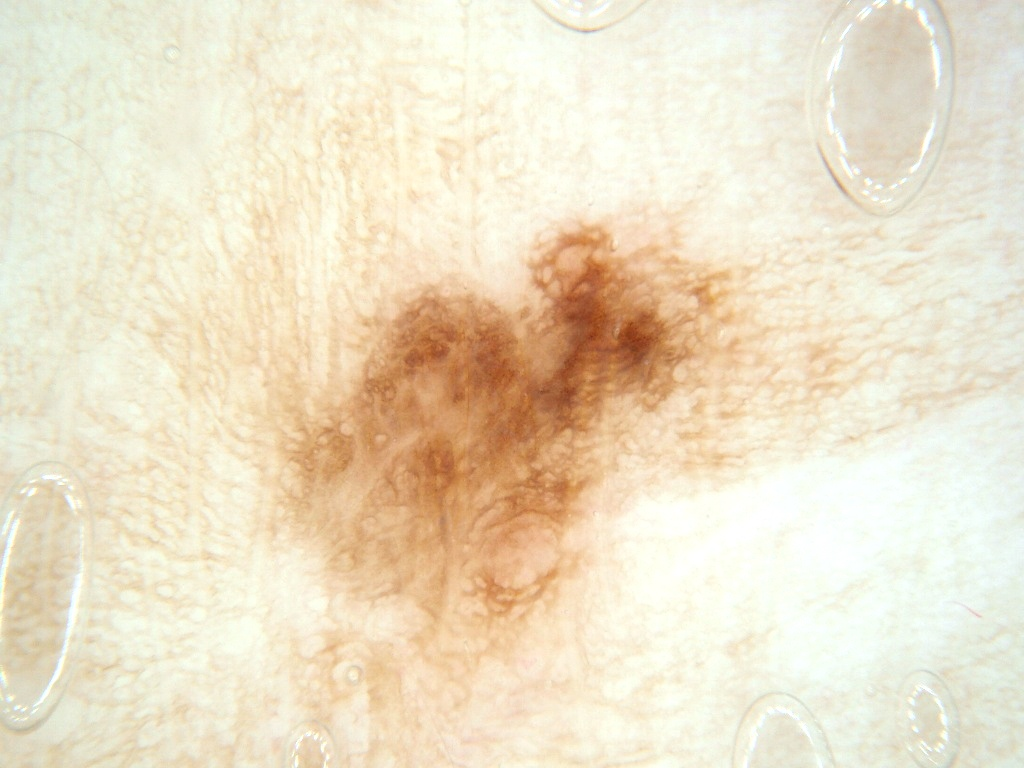Detected Lesion: (266, 204, 745, 667)
